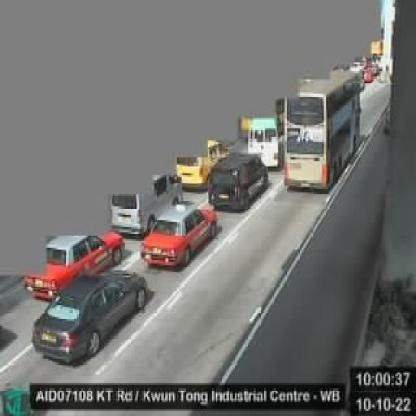Bus: (286, 72, 360, 190)
Car: (31, 269, 147, 369), (29, 228, 131, 292), (143, 199, 219, 269), (209, 149, 270, 210), (171, 138, 228, 191)
